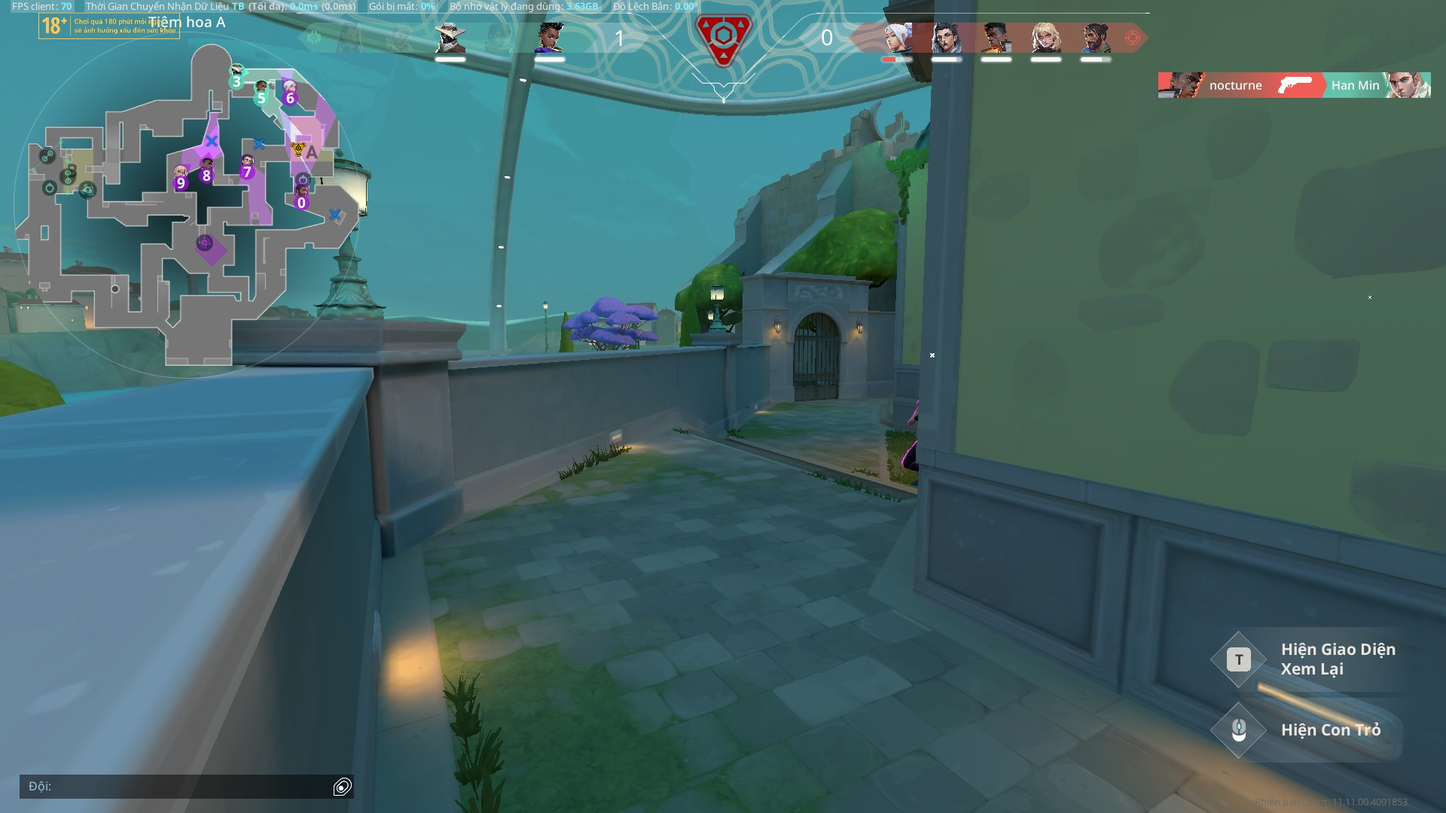body: (914, 399, 920, 436)
